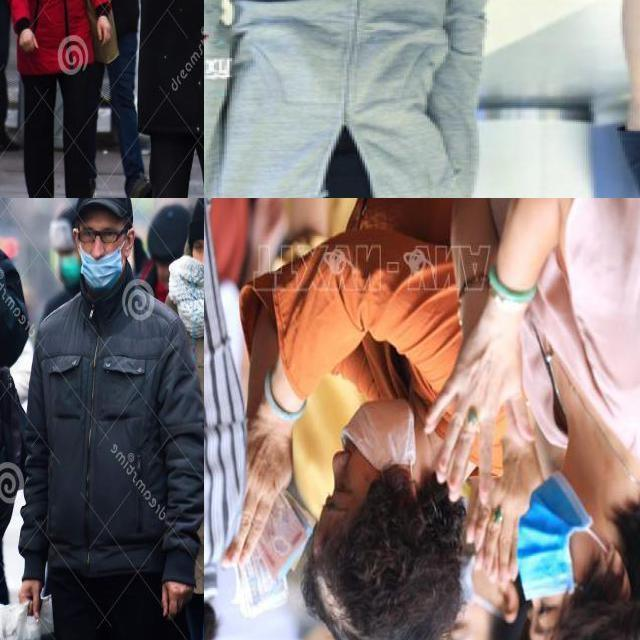hairnet: (329, 398, 414, 491), (80, 234, 128, 288)
